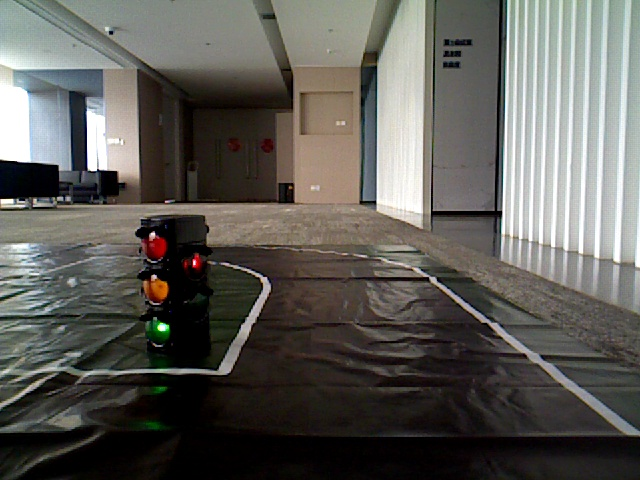green: (139, 226, 177, 343)
